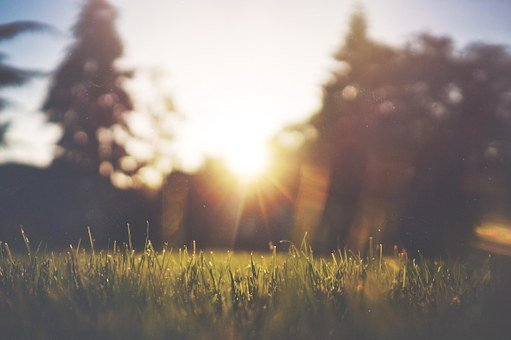field: (7, 235, 511, 337)
